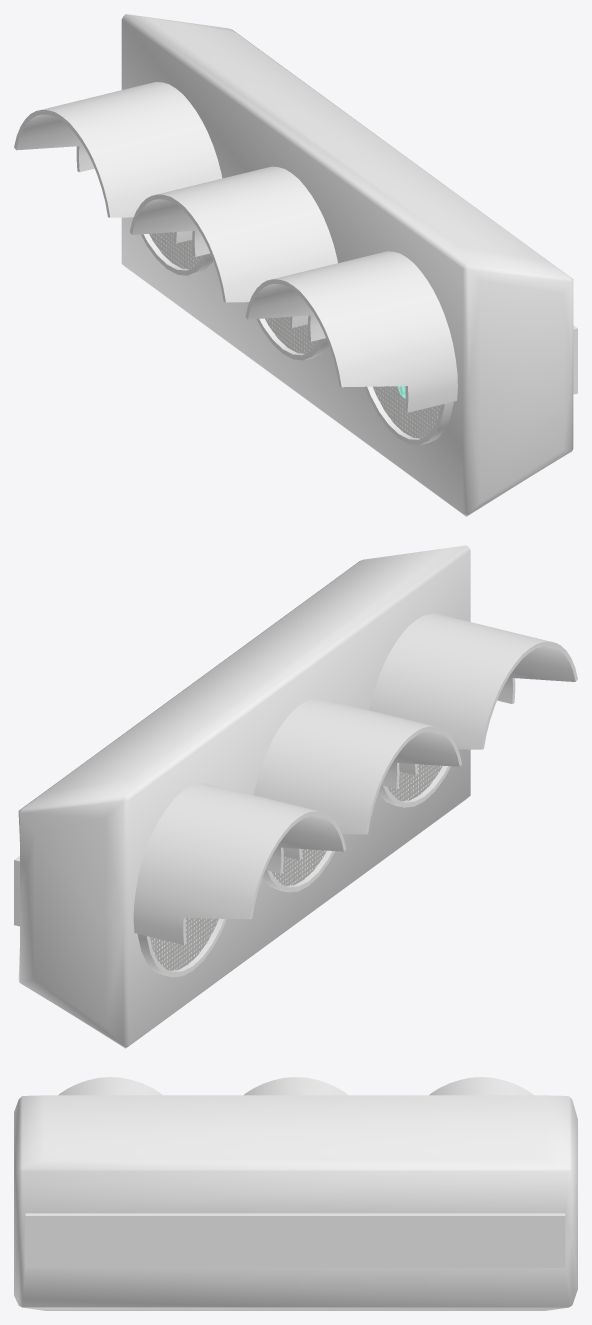
The model's file is 横向左转灯_GreenLight.glb.
3 views of the same model, one above another, from view 1: azimuth 30°, elevation 25°; view 2: azimuth 150°, elevation 25°; view 3: azimuth 270°, elevation 25° (orthographic). The views are drawn at different scales.
Parts seen in each view (by area): view 1: 横向左转灯_GreenLight; view 2: 横向左转灯_GreenLight; view 3: 横向左转灯_GreenLight.
Boxes of the visible parts, <box> form: 横向左转灯_GreenLight: <box>14,14,577,516</box>; 横向左转灯_GreenLight: <box>14,545,577,1048</box>; 横向左转灯_GreenLight: <box>14,1077,577,1310</box>.
Size of the model in its own units: 0.6 by 0.65 by 1.58.
3 materials, 2 textured.
